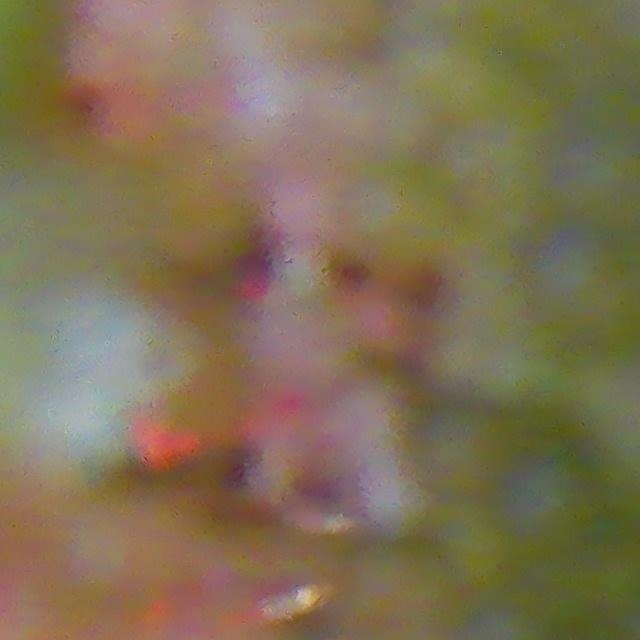SeaGrape: (517, 239, 640, 341), (414, 394, 510, 503), (501, 460, 600, 559), (558, 124, 640, 221)
